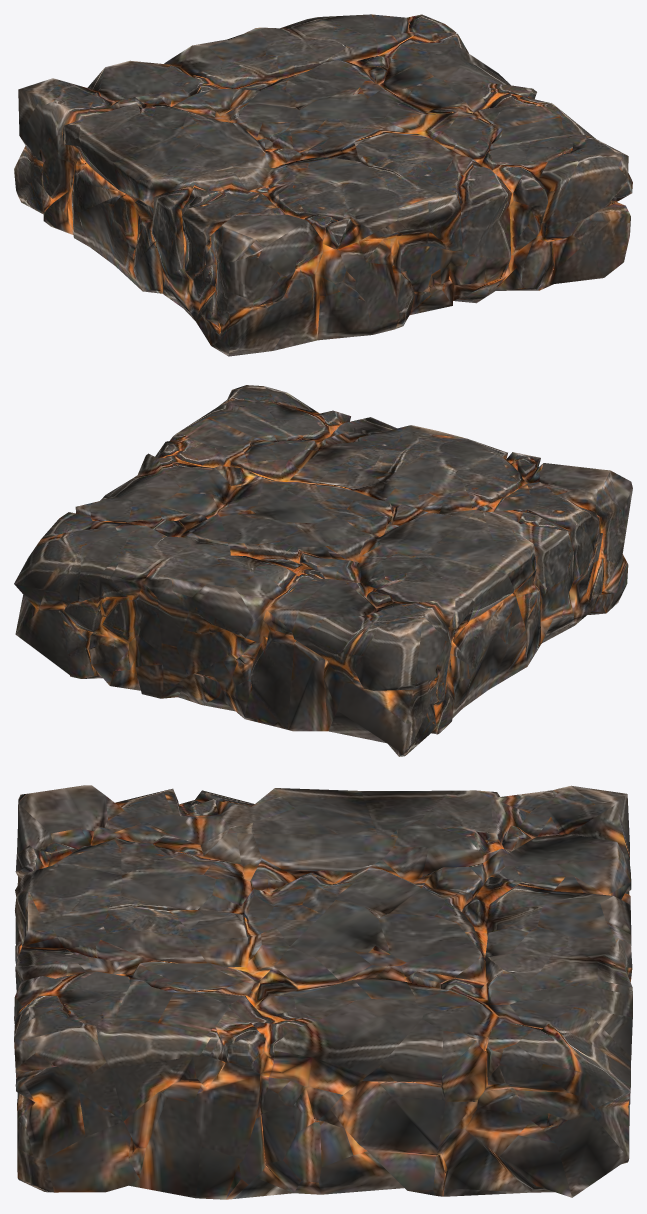
The model's file is tile.approved.glb.
3 views of the same model, one above another, from view 1: azimuth 30°, elevation 25°; view 2: azimuth 150°, elevation 25°; view 3: azimuth 270°, elevation 25° (orthographic). The views are drawn at different scales.
Bounding box in the file's own units: 1.9 × 0.5543 × 1.9.
1 material, 1 textured.
